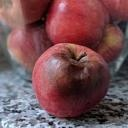apple: (32, 43, 110, 119)
